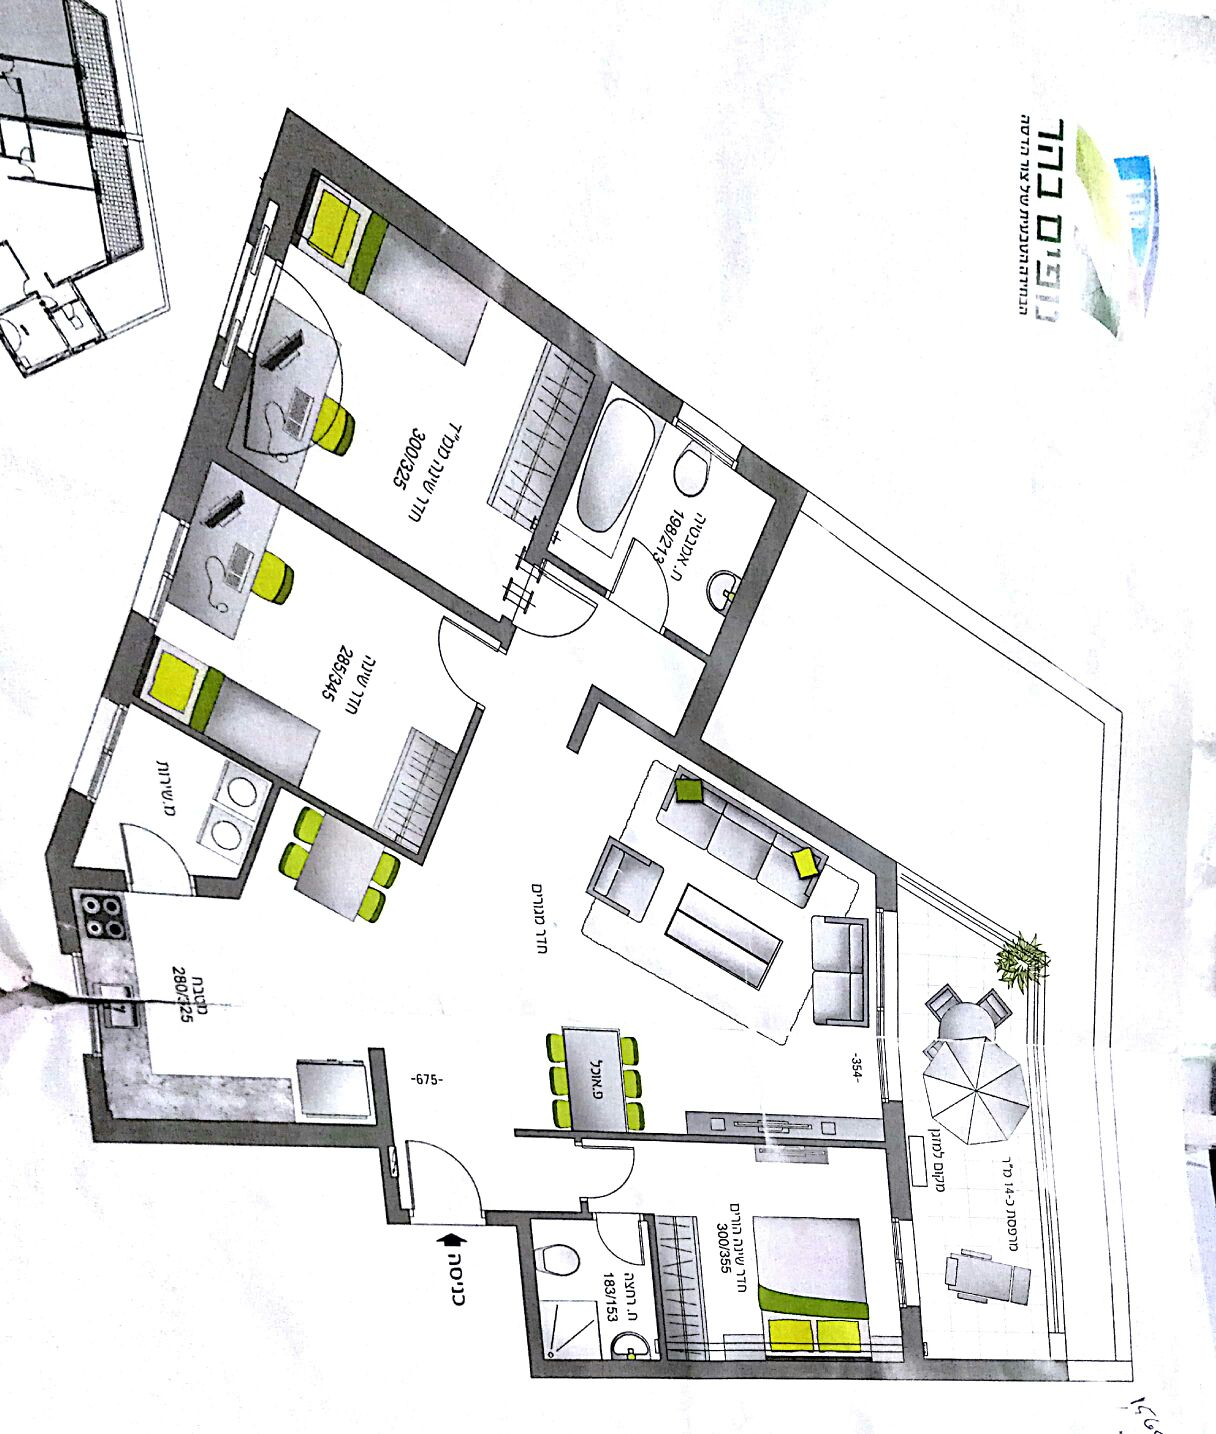door: (423, 614, 509, 712), (592, 535, 680, 622)
wall: (72, 1120, 375, 1175)
